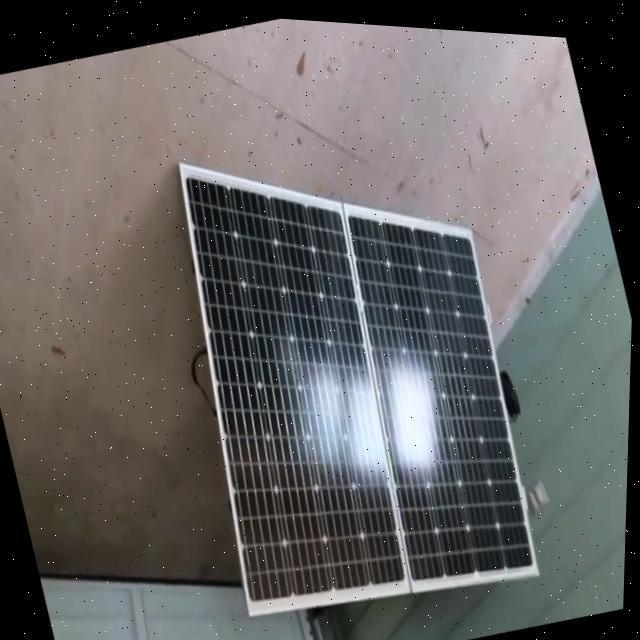Normal Solar Panel: (138, 88, 565, 640), (143, 135, 439, 616)
